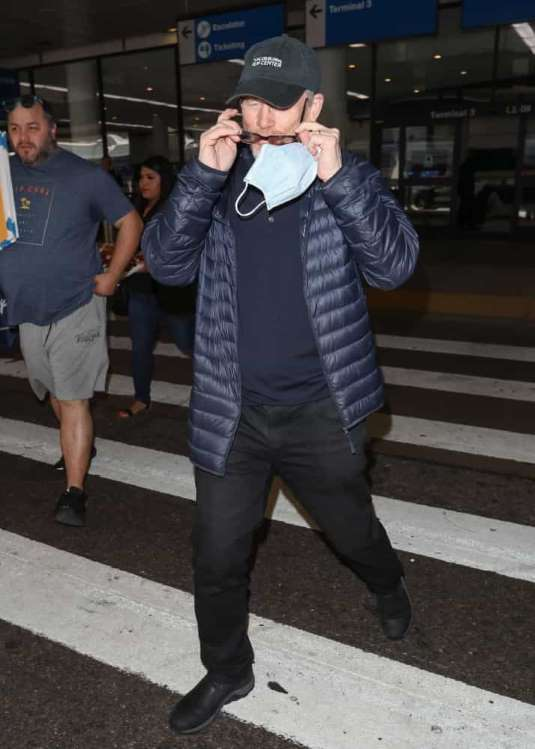mask_weared_incorrect: (243, 102, 311, 168)
without_mask: (10, 111, 50, 163), (136, 170, 160, 200)
